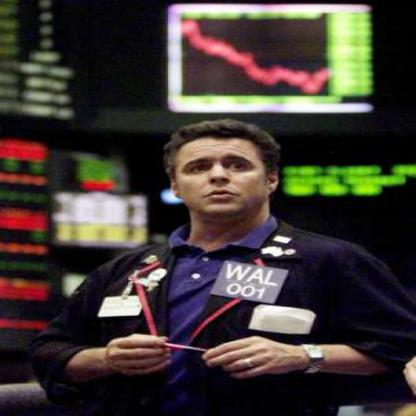face: (170, 124, 271, 218)
